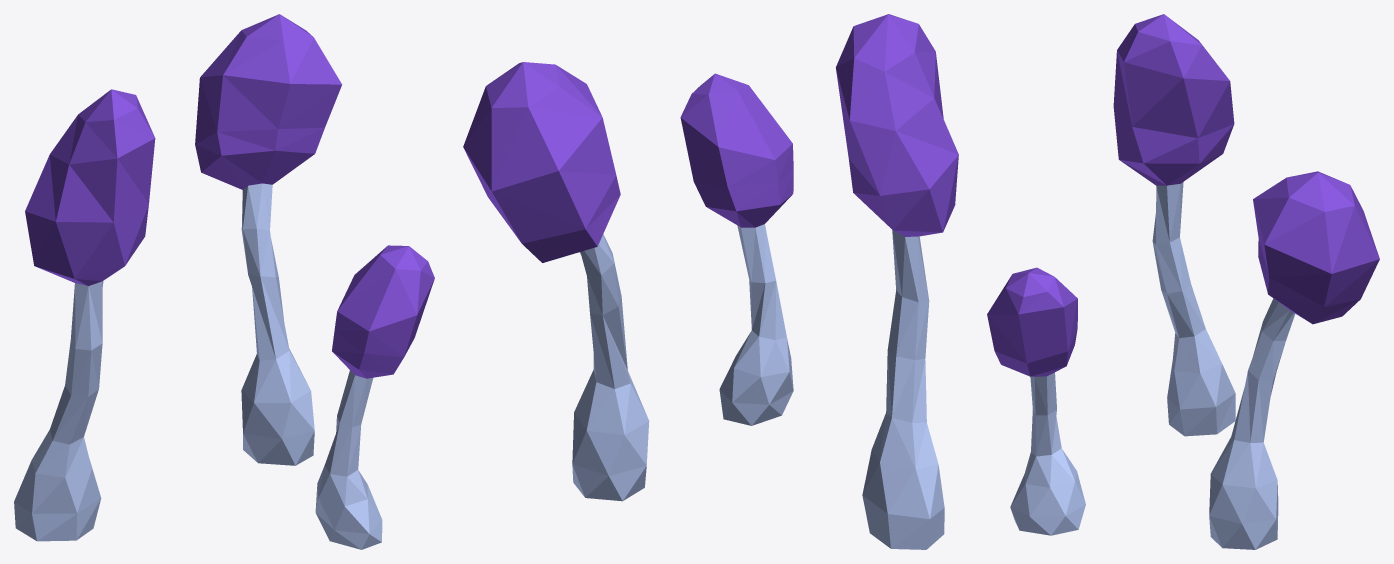
File: Mushroom 1_1.fbx
3 views of the same model, side by side, from view 1: azimuth 30°, elevation 25°; view 2: azimuth 150°, elevation 25°; view 3: azimuth 270°, elevation 25° (orthographic). The views are drawn at different scales.
Parts seen in each view (by area): view 1: Mushroom 1_1; view 2: Mushroom 1_1; view 3: Mushroom 1_1.
Boxes of the visible parts, x1=… form: Mushroom 1_1: x1=14, y1=14, x2=434, y2=549; Mushroom 1_1: x1=463, y1=14, x2=958, y2=549; Mushroom 1_1: x1=987, y1=14, x2=1379, y2=549.
Bounding box in the file's own units: 0.2932 × 0.3431 × 0.287.
